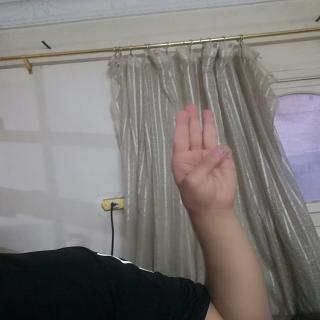THA: (166, 102, 248, 226)
